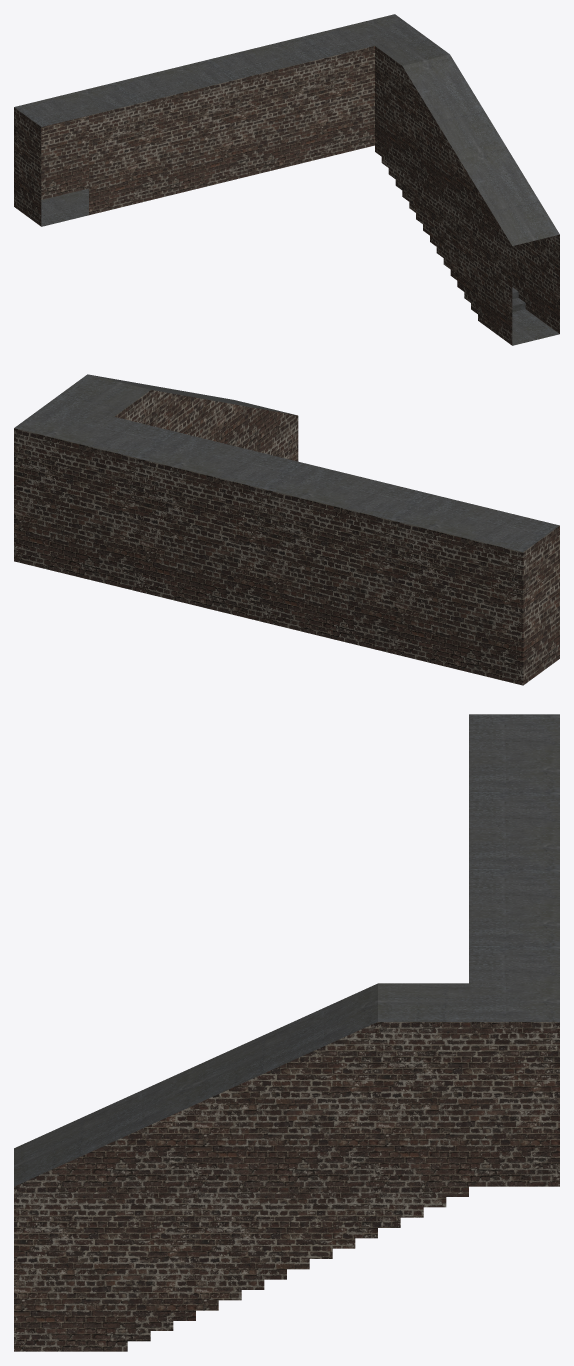
Rendered from map.fbx.
3 views of the same model, one above another, from view 1: azimuth 30°, elevation 25°; view 2: azimuth 150°, elevation 25°; view 3: azimuth 270°, elevation 25° (orthographic). The views are drawn at different scales.
Bounding box in the file's own units: 8 × 4 × 6.
